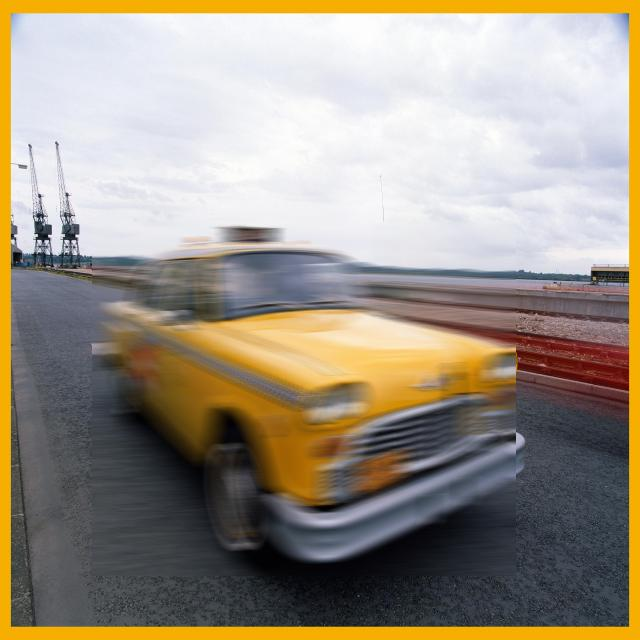Taxi: (92, 223, 516, 576)
